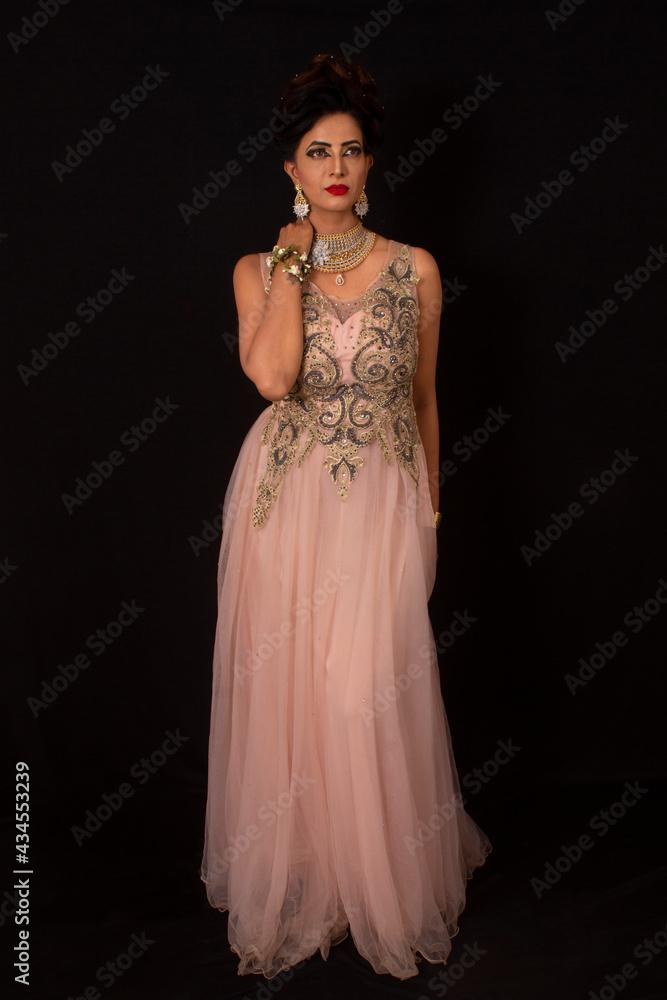Human: (211, 88, 484, 1000)
